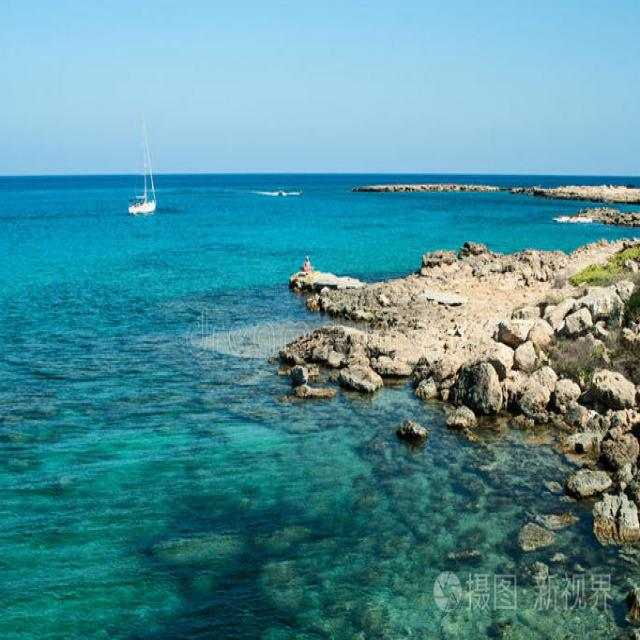reef: (268, 226, 496, 424), (342, 172, 473, 203)
sailboat: (123, 123, 167, 227)
